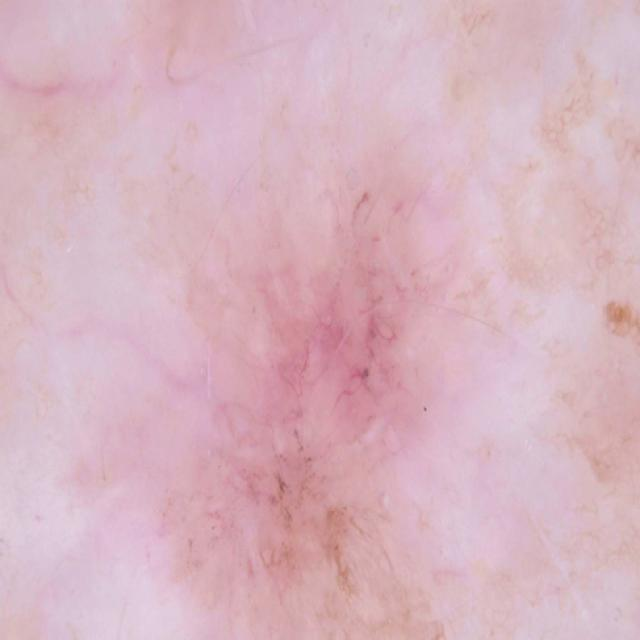Carcinoma: (159, 184, 507, 640)
